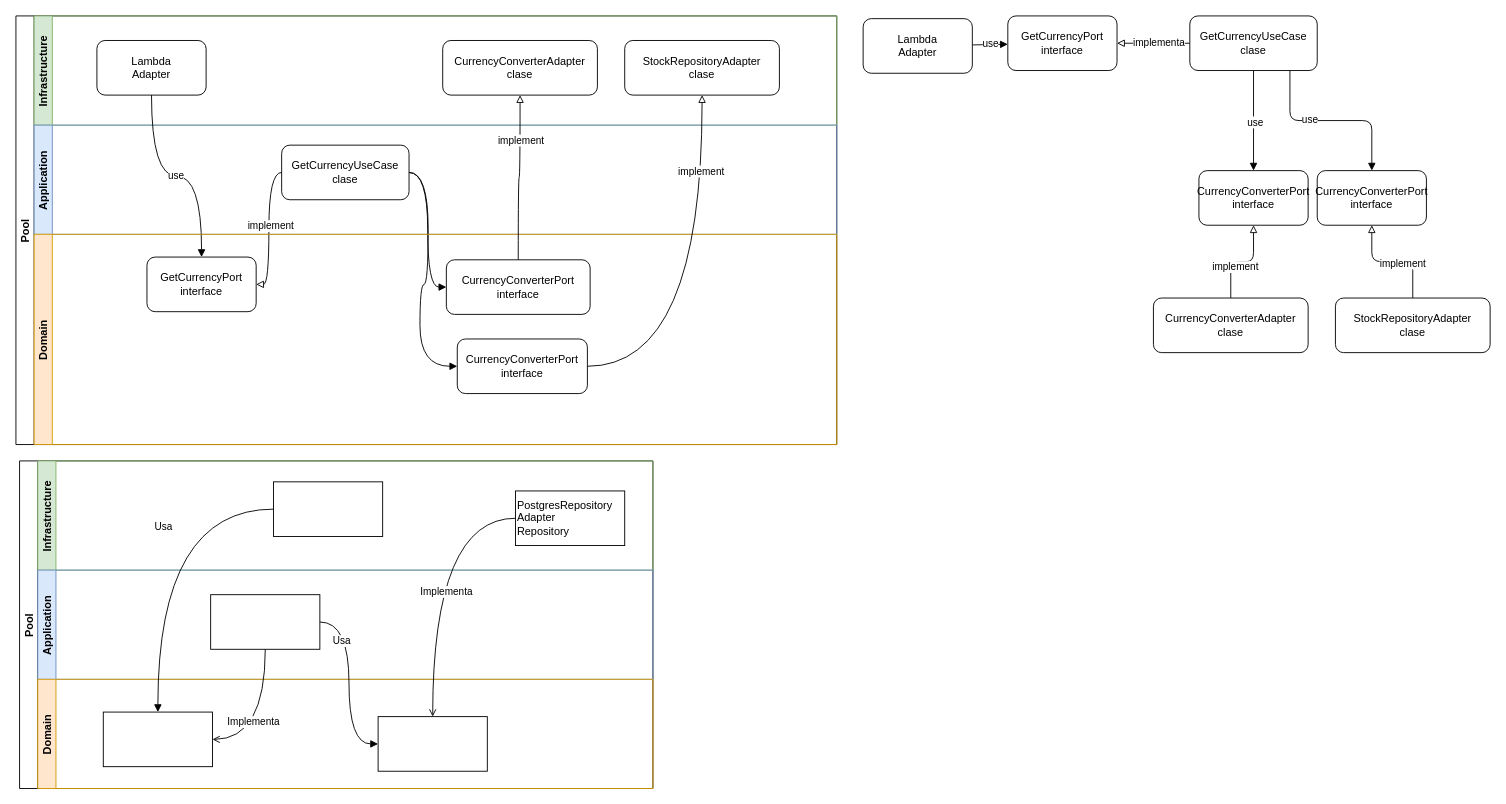
Image size: 1506x804. Some labels were removed from this diagram. The centre of each missing label's shape, as x and y in pixels:
"CustomerAPI Adapter Controller" belongs at pixel 328 508.
"CustomerInputPort Port Interface" belongs at pixel 157 739.
"CustomerUseCase UseCase" belongs at pixel 265 621.
"EntityRepositoryPort Port Interface" belongs at pixel 432 743.
